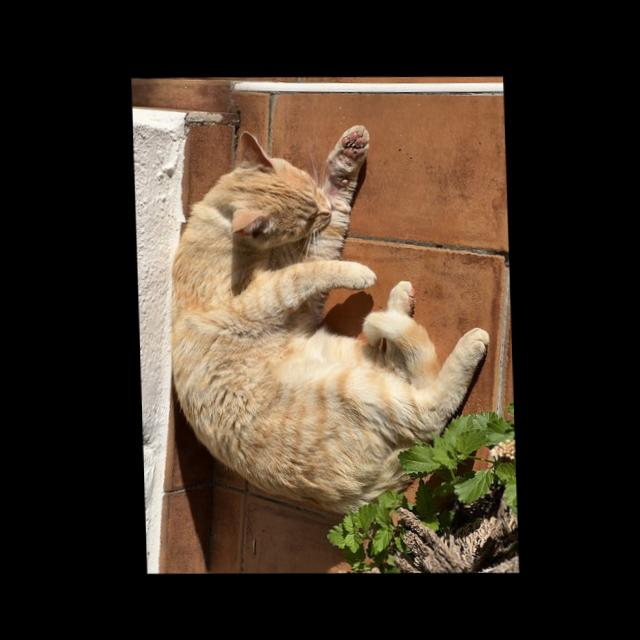animals: (161, 118, 492, 519)
